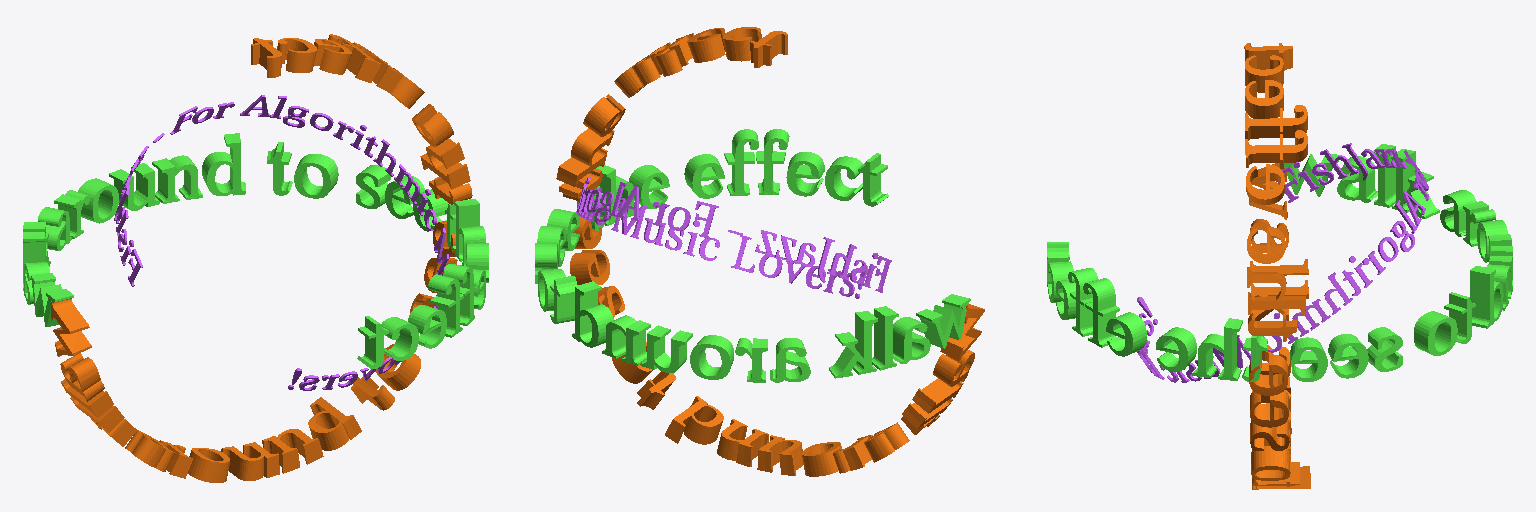
Rendered from rotatingText.obj.
3 views of the same model, side by side, from view 1: azimuth 30°, elevation 25°; view 2: azimuth 150°, elevation 25°; view 3: azimuth 270°, elevation 25° (orthographic).
Parts seen in each view (by area): view 1: group_0_[number redacted], group_0_[number redacted], group_0_[number redacted]; view 2: group_0_[number redacted], group_0_[number redacted], group_0_[number redacted]; view 3: group_0_[number redacted], group_0_[number redacted], group_0_[number redacted].
Boxes of the visible parts, box(x1,y1,x2,y2) form: group_0_[number redacted]: box(23, 133, 488, 368); group_0_[number redacted]: box(51, 34, 472, 482); group_0_[number redacted]: box(114, 95, 448, 390); group_0_[number redacted]: box(535, 129, 970, 382); group_0_[number redacted]: box(556, 27, 984, 476); group_0_[number redacted]: box(576, 178, 891, 298); group_0_[number redacted]: box(1047, 144, 1512, 381); group_0_[number redacted]: box(1244, 43, 1310, 489); group_0_[number redacted]: box(1137, 143, 1428, 382).
Size of the model in its own units: 6 by 6.01 by 6.